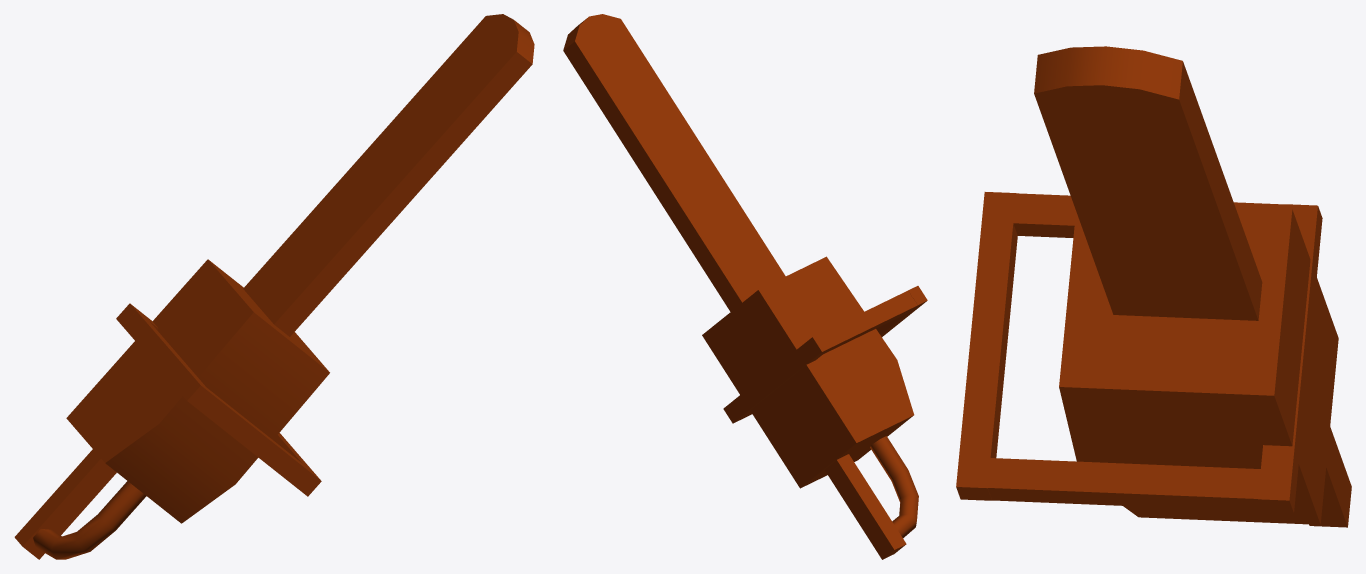
File: Chainsaw_mesh_LeftHand_Attach.fbx
3 views of the same model, side by side, from view 1: azimuth 30°, elevation 25°; view 2: azimuth 150°, elevation 25°; view 3: azimuth 270°, elevation 25° (orthographic). The views are drawn at different scales.
Visible parts, largest first — view 1: Chainsaw_LeftHand_Attach; view 2: Chainsaw_LeftHand_Attach; view 3: Chainsaw_LeftHand_Attach.
Boxes of the visible parts, x1,y1,x2,y2 form: Chainsaw_LeftHand_Attach: (14,14,534,559); Chainsaw_LeftHand_Attach: (563,14,927,559); Chainsaw_LeftHand_Attach: (956,46,1351,527).
Bounding box in the file's own units: 69.64 × 72 × 31.23.
